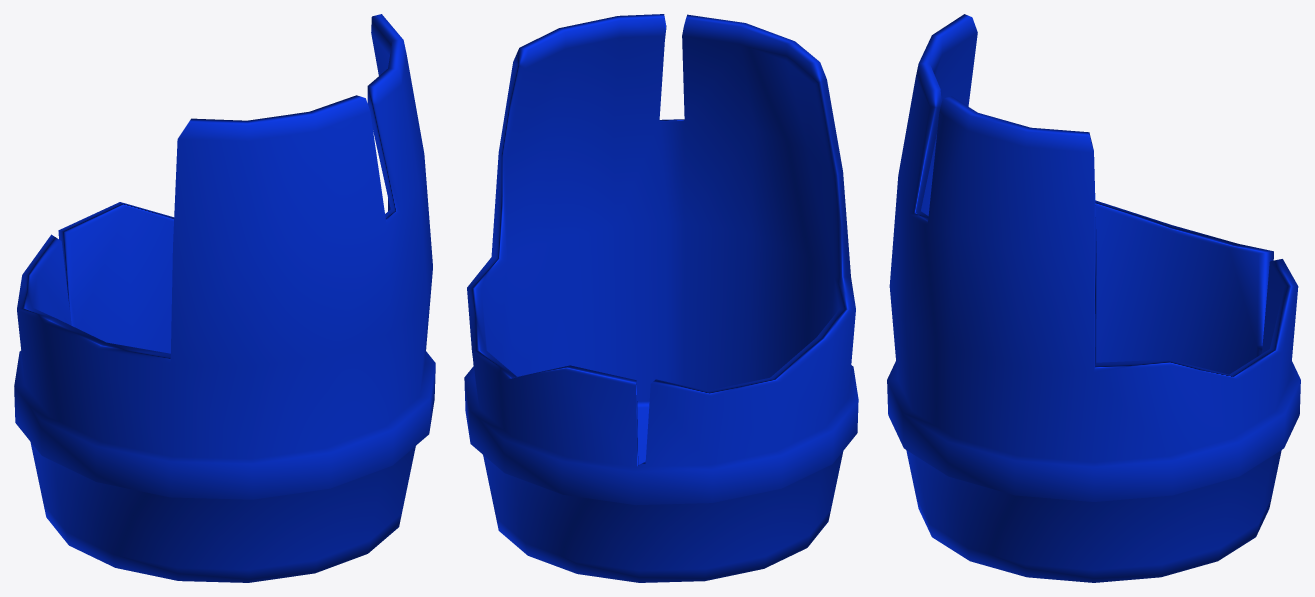
File: Barrel_01_Break_01.fbx
3 renders of one model, left to right at view 1: azimuth 30°, elevation 25°; view 2: azimuth 150°, elevation 25°; view 3: azimuth 270°, elevation 25°, orthographic. The views are drawn at different scales.
Visible parts, largest first — view 1: Barrel_01_Break_01; view 2: Barrel_01_Break_01; view 3: Barrel_01_Break_01.
Boxes of the visible parts, x1,y1,x2,y2 form: Barrel_01_Break_01: [14, 14, 435, 582]; Barrel_01_Break_01: [464, 14, 858, 582]; Barrel_01_Break_01: [887, 14, 1300, 582].
Bounding box in the file's own units: 67.3 × 79.98 × 67.3.
